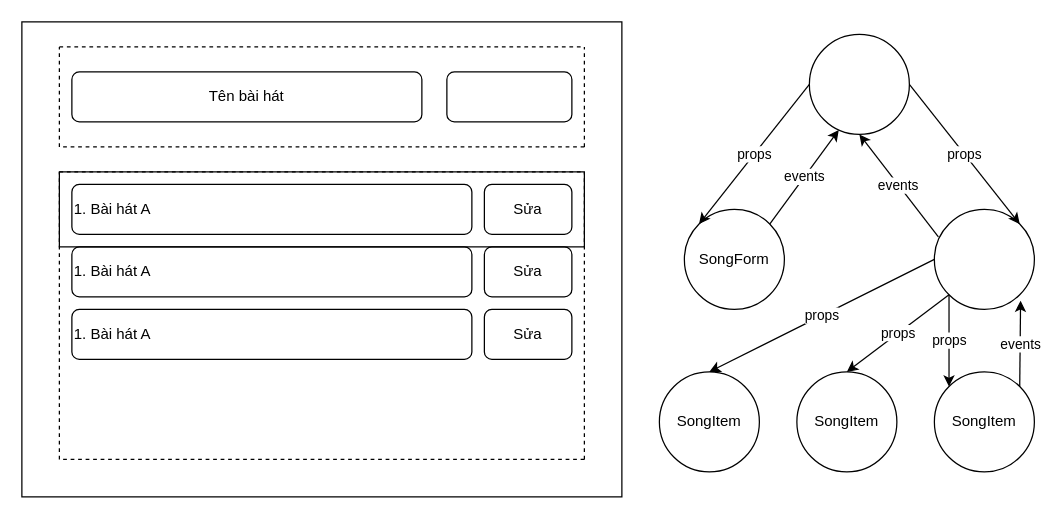
Image size: 1063x519. Some labels were removed from this diagram. Each missing label, with the box of its shape:
App songs: []: (808, 33, 909, 134)
ListSong: (933, 208, 1034, 309)
Thêm: (446, 71, 572, 122)
